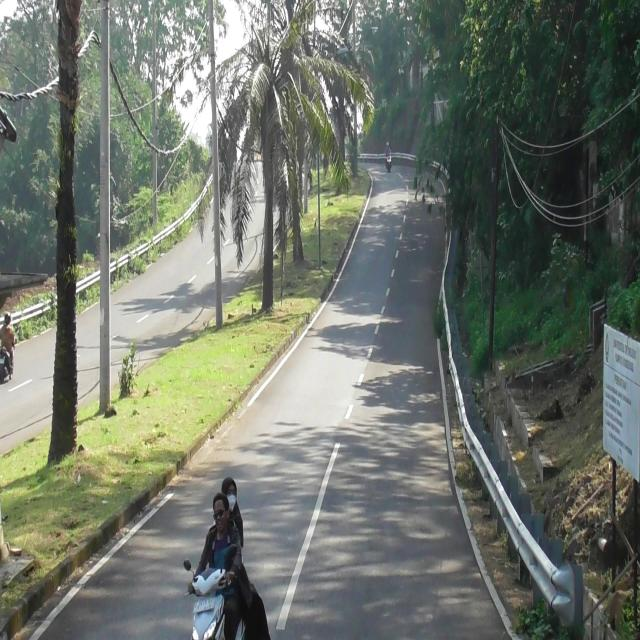motorcycle: (182, 547, 256, 640), (1, 347, 12, 384)
person: (214, 477, 268, 640), (191, 496, 239, 634), (0, 312, 15, 353)
rider_region: (185, 479, 271, 640), (1, 311, 15, 381)
